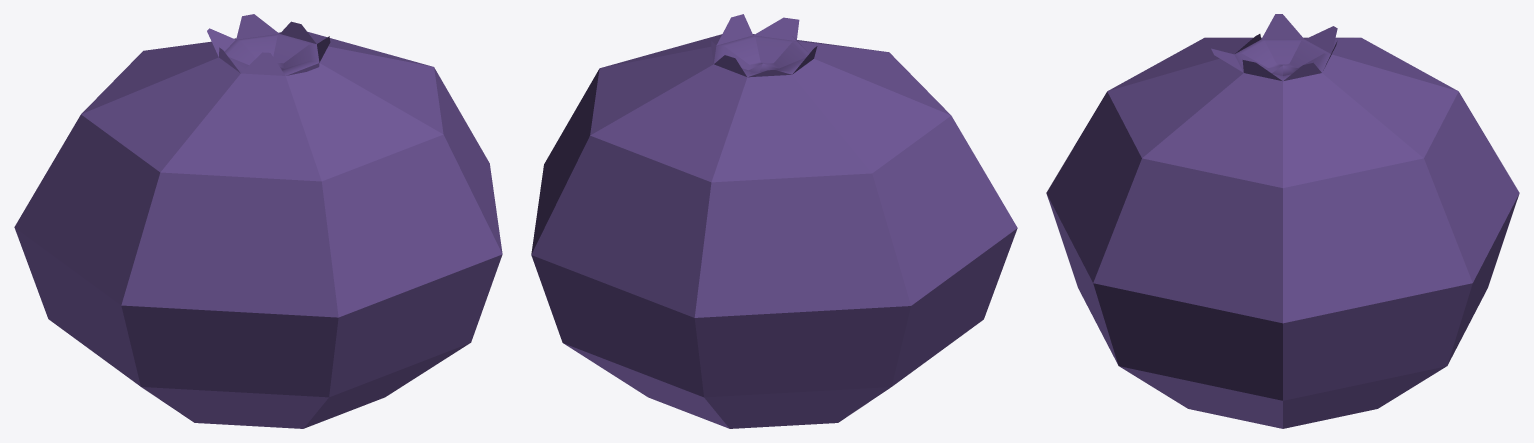
File: blueberry.fbx
3 renders of one model, left to right at view 1: azimuth 30°, elevation 25°; view 2: azimuth 150°, elevation 25°; view 3: azimuth 270°, elevation 25°, orthographic.
Visible parts, largest first — view 1: Blueberry; view 2: Blueberry; view 3: Blueberry.
Part boxes in pixels (x1=…): Blueberry: x1=14, y1=14, x2=502, y2=428; Blueberry: x1=531, y1=14, x2=1017, y2=428; Blueberry: x1=1046, y1=14, x2=1519, y2=428.
Size of the model in its own units: 0.8382 by 0.6995 by 0.8269.
